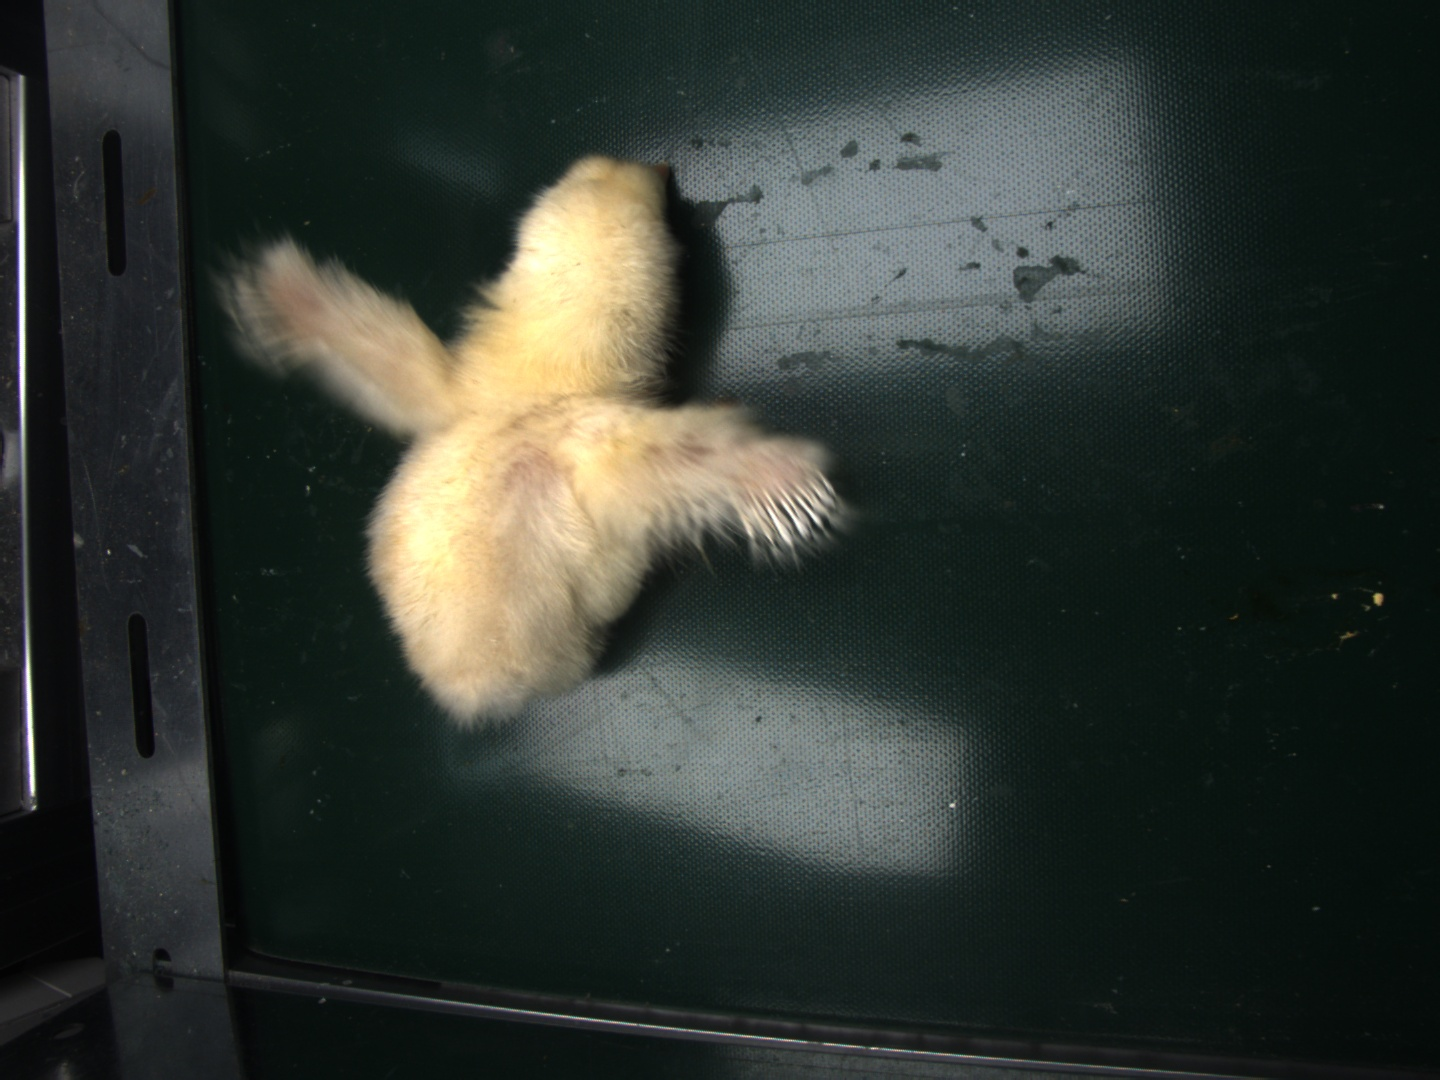male: (739, 474, 832, 540)
